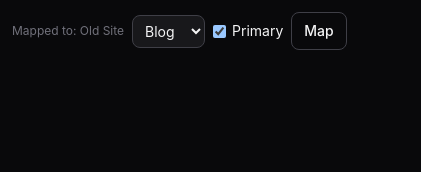
Test: MapPropertyForm › maps a property with the primary flag and shows Mapped.
Expected: the text "Mapped to: Old Site" is shown, [12,23,124,39]
Select "Shop" in the dropdown named "Website for 123". click: (168, 31)
box: [132,14,205,48]
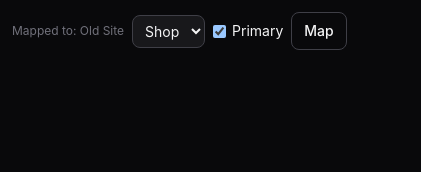
Click the checkbox labelled "Primary". click: (220, 31)
box: [213,24,226,38]
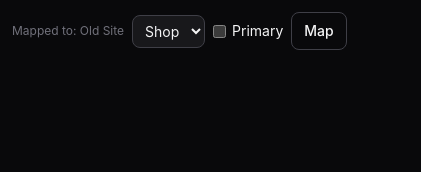
Click the button "Map". click: (319, 31)
box: [291,12,347,50]
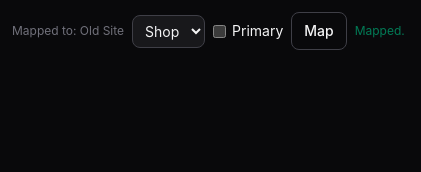
Expected: the text "Mapped." is shown, [355,23,405,39]
